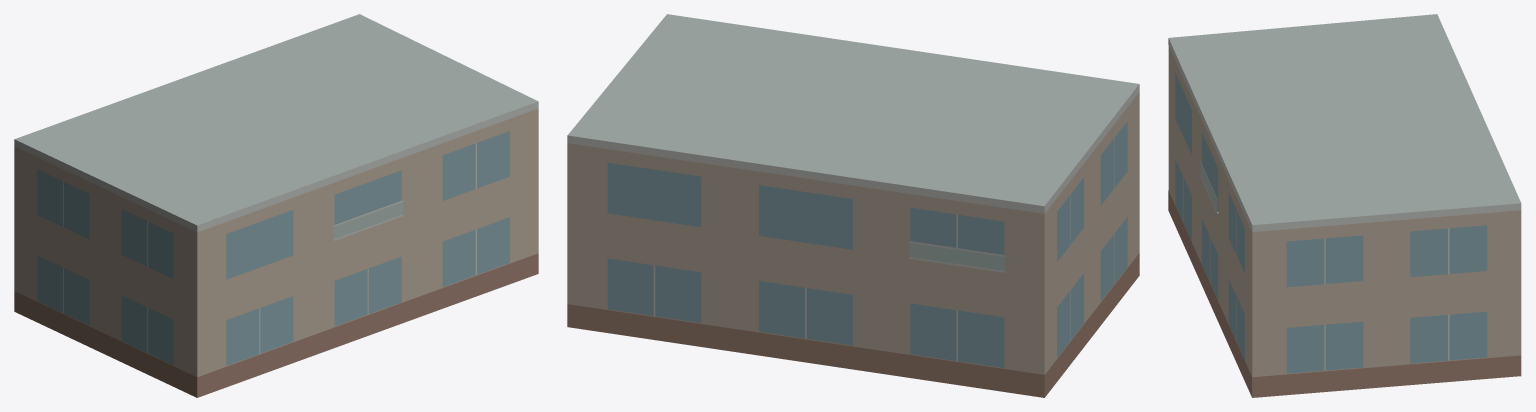
Rendered from survey-upis-32609985.glb.
The picture shows the model from 3 angles, left to right: view 1: azimuth 30°, elevation 25°; view 2: azimuth 150°, elevation 25°; view 3: azimuth 270°, elevation 25°; orthographic projection. The views are drawn at different scales.
Parts seen in each view (by area): view 1: survey-upis-32609985.tmp; view 2: survey-upis-32609985.tmp; view 3: survey-upis-32609985.tmp.
Part boxes in pixels (bbox=[...]): survey-upis-32609985.tmp: bbox=[14, 14, 538, 397]; survey-upis-32609985.tmp: bbox=[567, 14, 1139, 397]; survey-upis-32609985.tmp: bbox=[1168, 14, 1521, 397].
Size of the model in its own units: 16.01 by 6.1 by 11.31.
